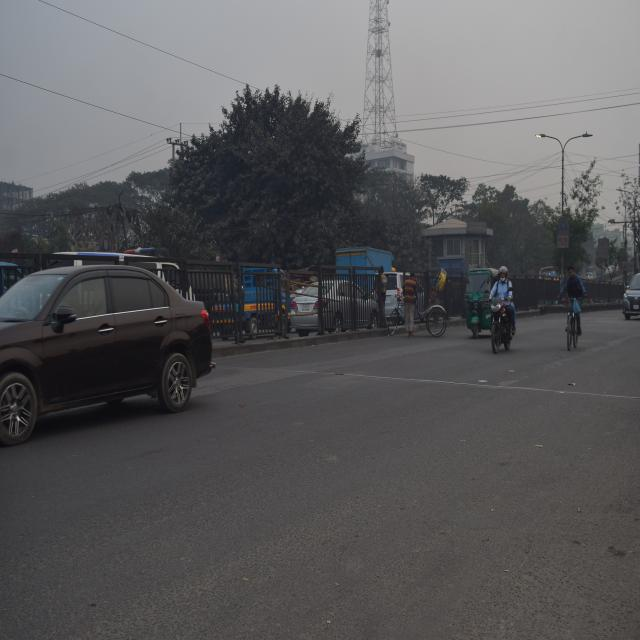car: (0, 254, 217, 442), (288, 267, 381, 338), (616, 260, 640, 324)
motorbike: (476, 289, 526, 359)
pickup-van: (212, 248, 300, 348), (329, 242, 405, 296)
